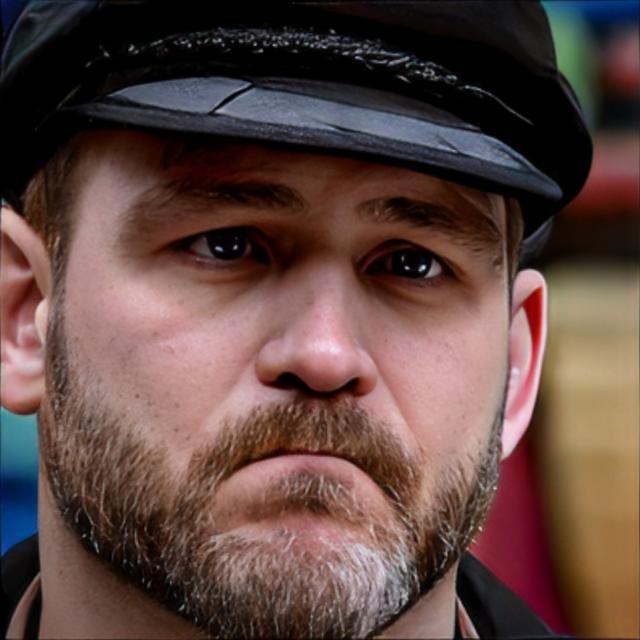sad: (57, 75, 509, 632)
